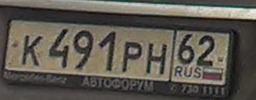character: (71, 28, 96, 72), (47, 26, 70, 70), (96, 27, 118, 73), (144, 39, 168, 78), (20, 33, 46, 68), (121, 39, 143, 76), (196, 34, 218, 68), (177, 32, 196, 65)
